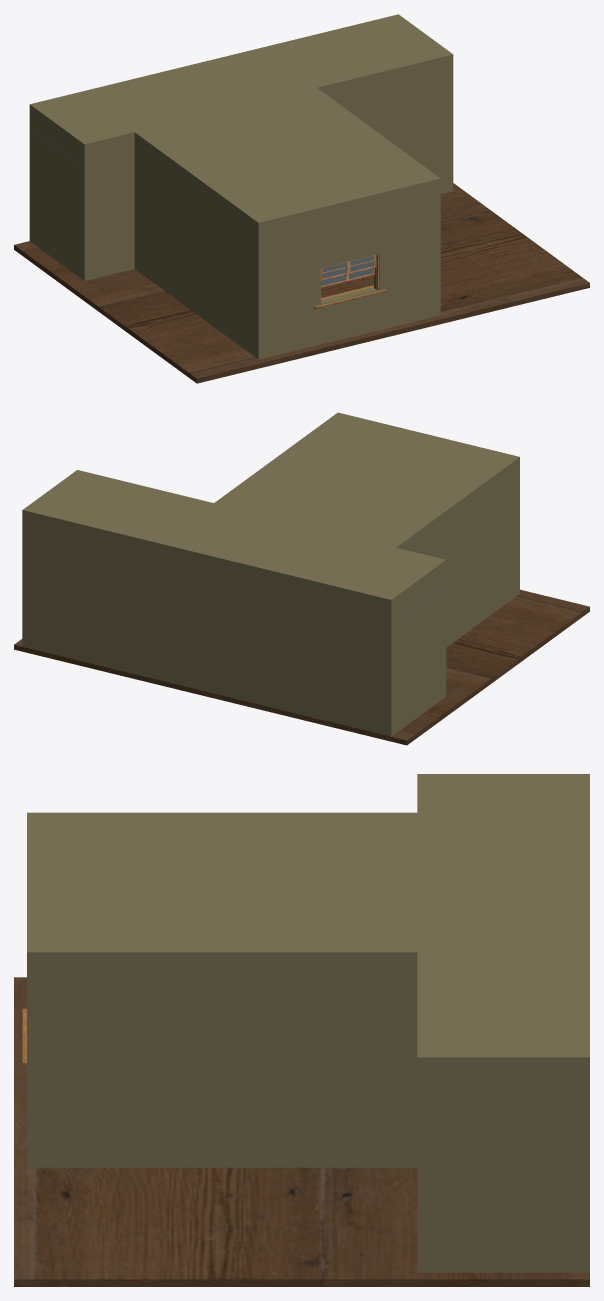
File: Cuarto.fbx
The picture shows the model from 3 angles, top to bottom: view 1: azimuth 30°, elevation 25°; view 2: azimuth 150°, elevation 25°; view 3: azimuth 270°, elevation 25°; orthographic projection. The views are drawn at different scales.
Visible parts, largest first — view 1: Casa, Marco Ventana, Vidrio; view 2: Casa; view 3: Casa.
Part boxes in pixels (x1=…): Casa: x1=14, y1=14, x2=589, y2=383; Marco Ventana: x1=314, y1=254, x2=386, y2=309; Vidrio: x1=321, y1=256, x2=374, y2=285; Casa: x1=14, y1=412, x2=589, y2=745; Casa: x1=14, y1=774, x2=589, y2=1286.
Bounding box in the file's own units: 1134 × 391 × 915.
Materials: 13 (11 with a texture image).
